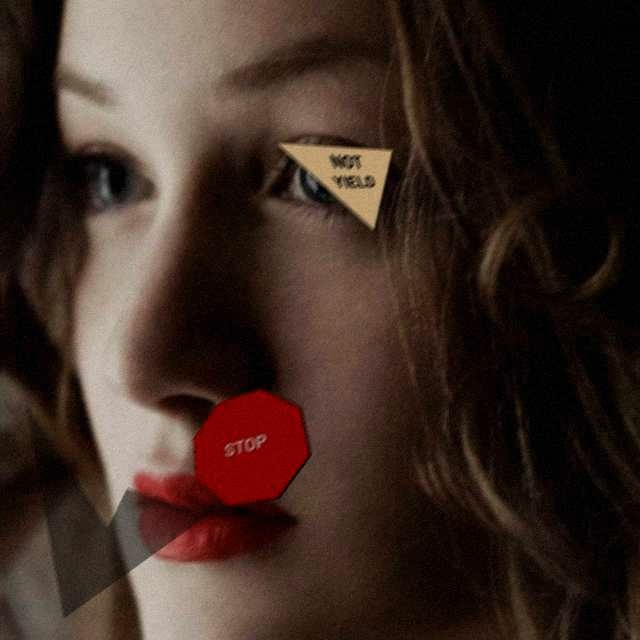NOT_YIELD: (271, 143, 391, 233)
STOP: (190, 389, 309, 509)
